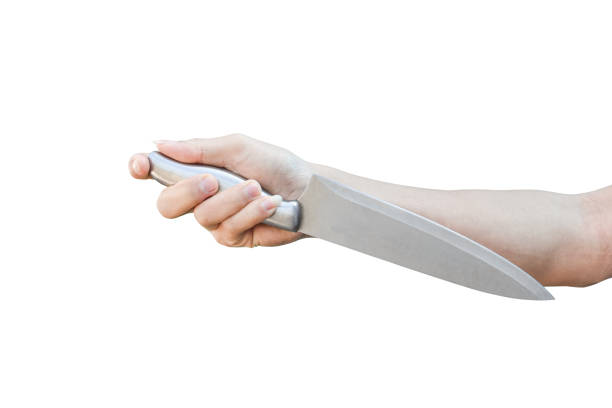knife: (146, 150, 558, 301)
